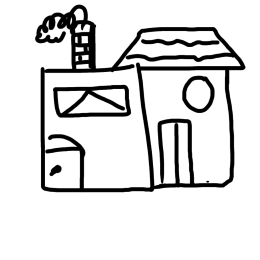closed_window: (51, 80, 134, 121)
door: (38, 128, 90, 200), (153, 115, 200, 191)
open_window: (174, 71, 219, 119)
roof: (110, 20, 248, 79)
single_line_roof: (20, 60, 148, 81)
smoking_chimney: (29, 1, 104, 74)
wall: (29, 63, 158, 197)
